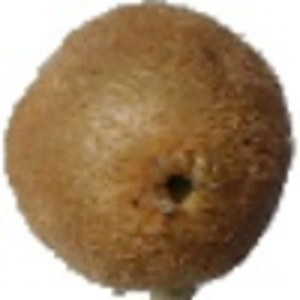kiwi: (2, 1, 300, 300)
